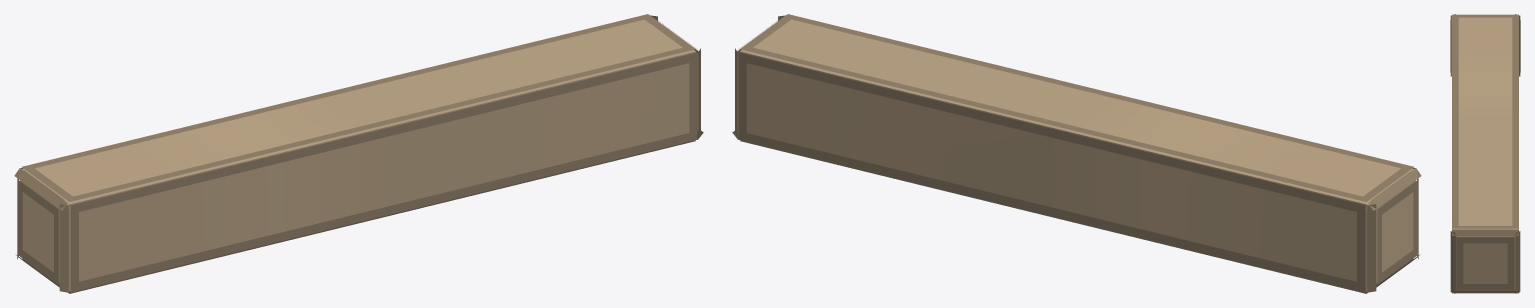
File: key.glb
3 views of the same model, side by side, from view 1: azimuth 30°, elevation 25°; view 2: azimuth 150°, elevation 25°; view 3: azimuth 270°, elevation 25° (orthographic). The views are drawn at different scales.
Parts seen in each view (by area): view 1: key; view 2: key; view 3: key.
Boxes of the visible parts, box(x1,y1,x2,y2) form: key: box(14, 14, 703, 293); key: box(732, 14, 1421, 293); key: box(1450, 14, 1520, 293).
Bounding box in the file's own units: 0.1157 × 0.0158 × 0.0158.
